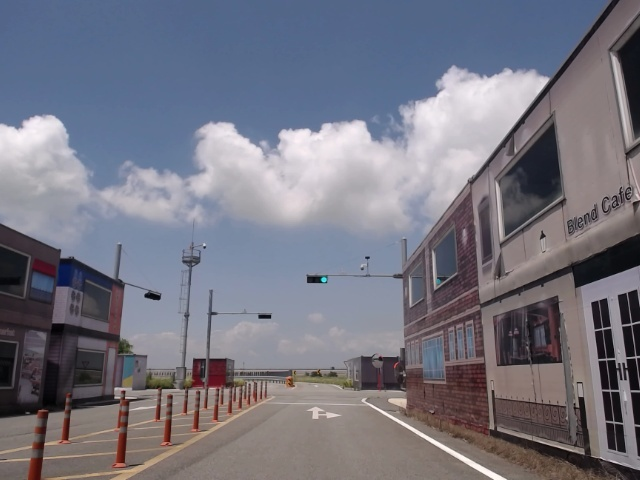green_3: (308, 275, 328, 282)
